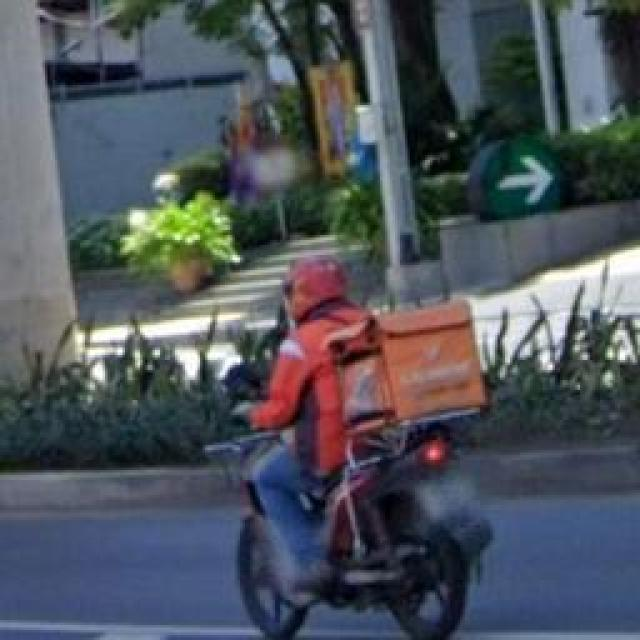motorbike: (196, 263, 504, 640)
